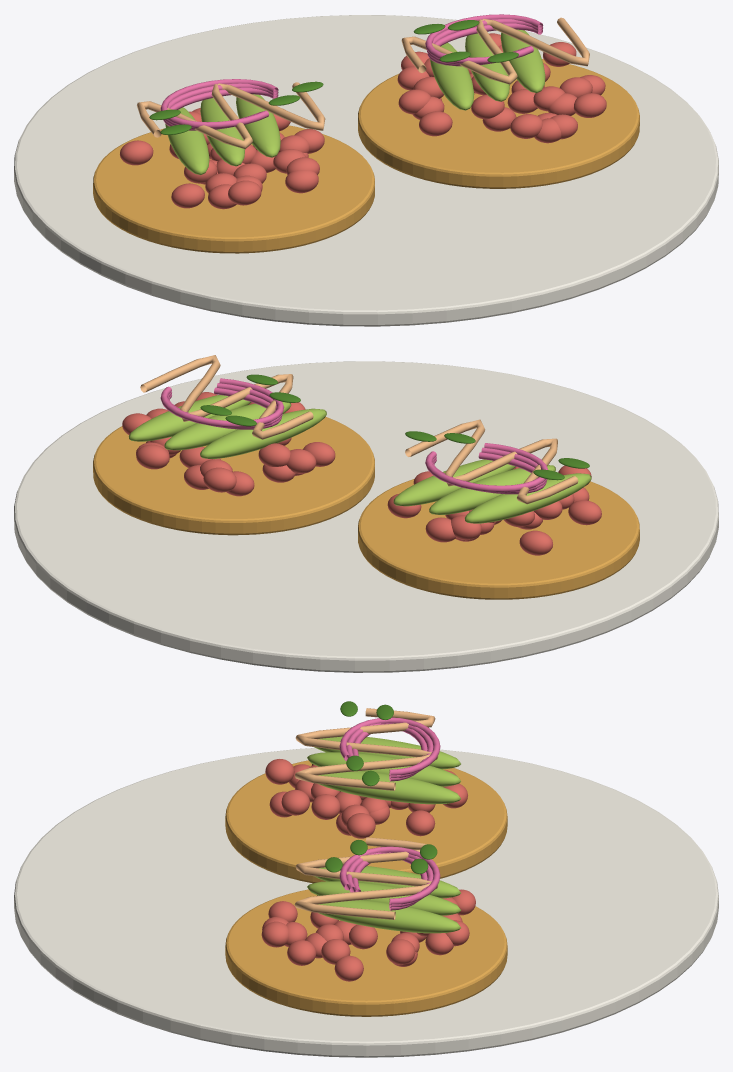
The model's file is flores-tostadas-de-atun.glb.
The picture shows the model from 3 angles, top to bottom: view 1: azimuth 30°, elevation 25°; view 2: azimuth 150°, elevation 25°; view 3: azimuth 270°, elevation 25°; orthographic projection.
Parts seen in each view (by area): view 1: Serving plate, Crisp tostada.001, Crisp tostada, Aioli drizzle.001, Aioli drizzle, Avocado slice.004, Avocado slice.003, Avocado slice, Onion curl.002, Avocado slice.001, Avocado slice.002, Avocado slice.005 (+15 smaller); view 2: Serving plate, Crisp tostada.001, Crisp tostada, Aioli drizzle, Aioli drizzle.001, Avocado slice.004, Avocado slice.001, Avocado slice.002, Avocado slice.005, Avocado slice.003, Avocado slice, Onion curl.002 (+10 smaller); view 3: Serving plate, Crisp tostada, Crisp tostada.001, Aioli drizzle.001, Aioli drizzle, Avocado slice, Avocado slice.003, Avocado slice.005, Avocado slice.002, Onion curl.002, Onion curl.005, Avocado slice.001 (+11 smaller).
Boxes of the visible parts, box(x1,y1,x2,y2) form: Serving plate: box(14, 15, 718, 326); Crisp tostada.001: box(93, 125, 374, 253); Crisp tostada: box(358, 59, 639, 188); Aioli drizzle.001: box(401, 17, 589, 84); Aioli drizzle: box(137, 82, 325, 149); Avocado slice.004: box(430, 42, 474, 110); Avocado slice.003: box(236, 94, 280, 157); Avocado slice: box(500, 29, 545, 92); Onion curl.002: box(160, 79, 278, 128); Avocado slice.001: box(165, 107, 209, 174); Avocado slice.002: box(200, 98, 244, 166); Avocado slice.005: box(465, 33, 509, 101); Serving plate: box(14, 361, 718, 672); Crisp tostada.001: box(358, 479, 639, 599); Crisp tostada: box(93, 417, 374, 535); Aioli drizzle: box(405, 419, 578, 504); Aioli drizzle.001: box(140, 355, 313, 439); Avocado slice.004: box(200, 408, 326, 459); Avocado slice.001: box(464, 473, 591, 523); Avocado slice.002: box(429, 465, 555, 514); Avocado slice.005: box(164, 402, 291, 450); Avocado slice.003: box(393, 459, 515, 506); Avocado slice: box(128, 395, 251, 441); Onion curl.002: box(425, 443, 547, 492); Serving plate: box(14, 748, 718, 1057); Crisp tostada: box(225, 889, 507, 1016); Crisp tostada.001: box(225, 760, 507, 883); Aioli drizzle.001: box(294, 837, 437, 919); Aioli drizzle: box(294, 708, 438, 790); Avocado slice: box(318, 900, 460, 933); Avocado slice.003: box(318, 771, 460, 804); Avocado slice.005: box(307, 881, 460, 915); Avocado slice.002: box(307, 752, 460, 786); Onion curl.002: box(339, 717, 440, 775); Onion curl.005: box(339, 846, 440, 905); Avocado slice.001: box(314, 736, 460, 769).
Size of the model in its own units: 0.24 by 0.0398 by 0.24.
